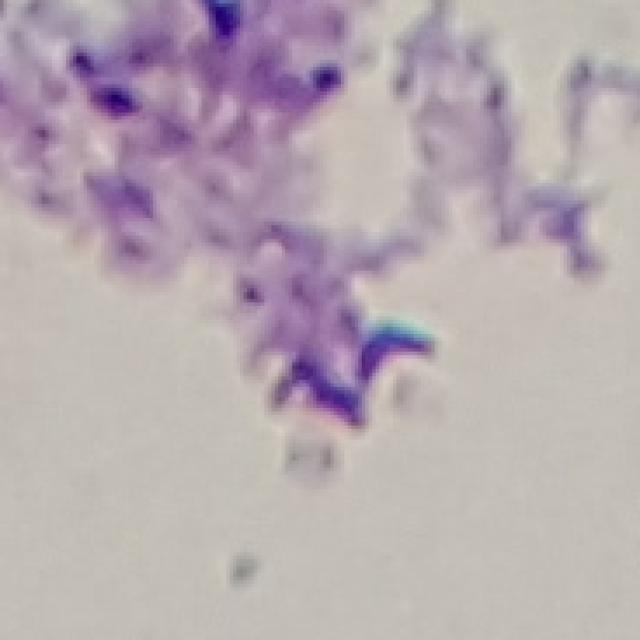non-sperm: (109, 4, 476, 444)
